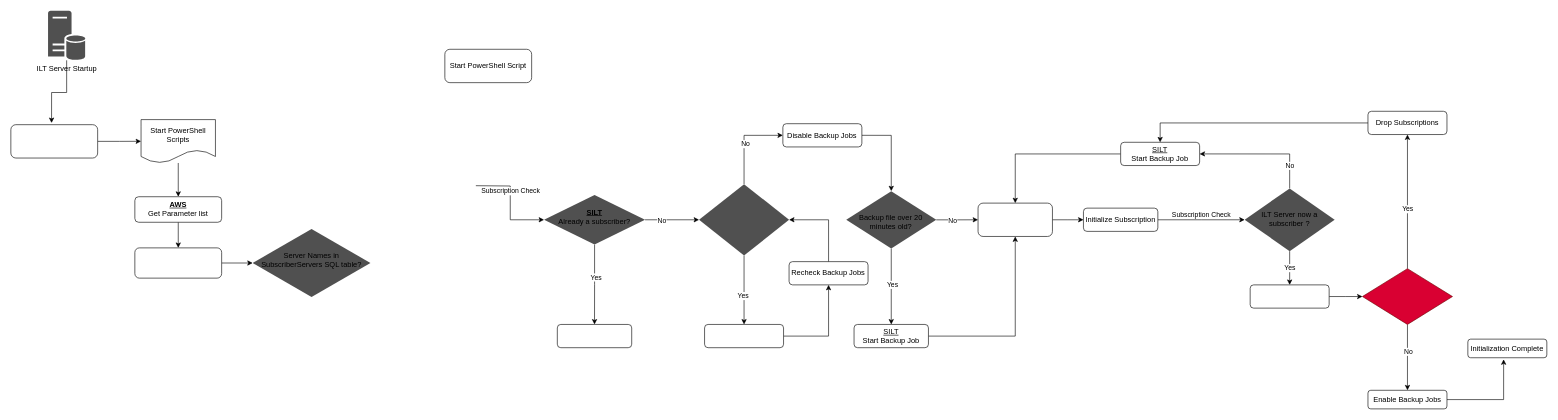
Image size: 1558x420. Some labels were removed from this diagram. Each missing label, with the centre of its shape:
Backup Jobs Running?: the point at 744,219
Check SQL logs: the point at 1289,296
Do Nothing: the point at 594,336
Extract Server Names from the parameters: the point at 178,262
ILT Server Restore Database from Backup: the point at 1014,219
Replication Errors?: the point at 1407,296
Start Initialization SQL Jobs x3: the point at 54,141
Wait 60 seconds: the point at 744,336
